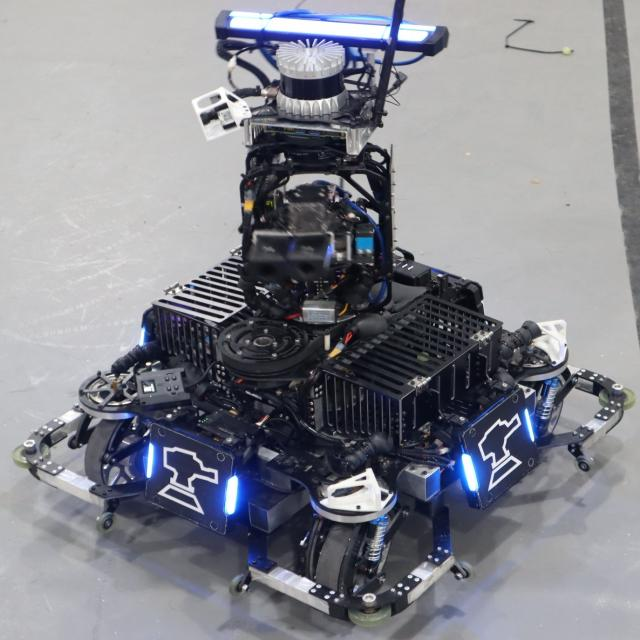Bs: (138, 420, 245, 534), (456, 389, 542, 509)
